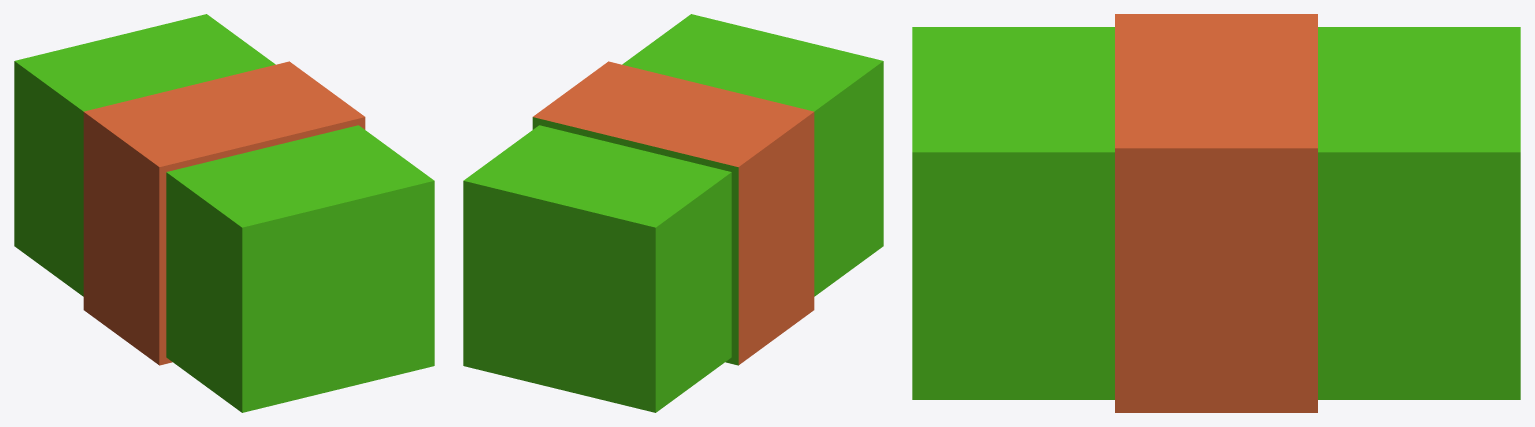
The model's file is MoneyStack.fbx.
3 renders of one model, left to right at view 1: azimuth 30°, elevation 25°; view 2: azimuth 150°, elevation 25°; view 3: azimuth 270°, elevation 25°, orthographic. The views are drawn at different scales.
Parts seen in each view (by area): view 1: MoneyStack; view 2: MoneyStack; view 3: MoneyStack.
Part boxes in pixels (x1=…): MoneyStack: x1=14, y1=14, x2=434, y2=412; MoneyStack: x1=463, y1=14, x2=883, y2=412; MoneyStack: x1=912, y1=14, x2=1520, y2=412.
Size of the model in its own units: 55.62 by 51.18 by 107.
